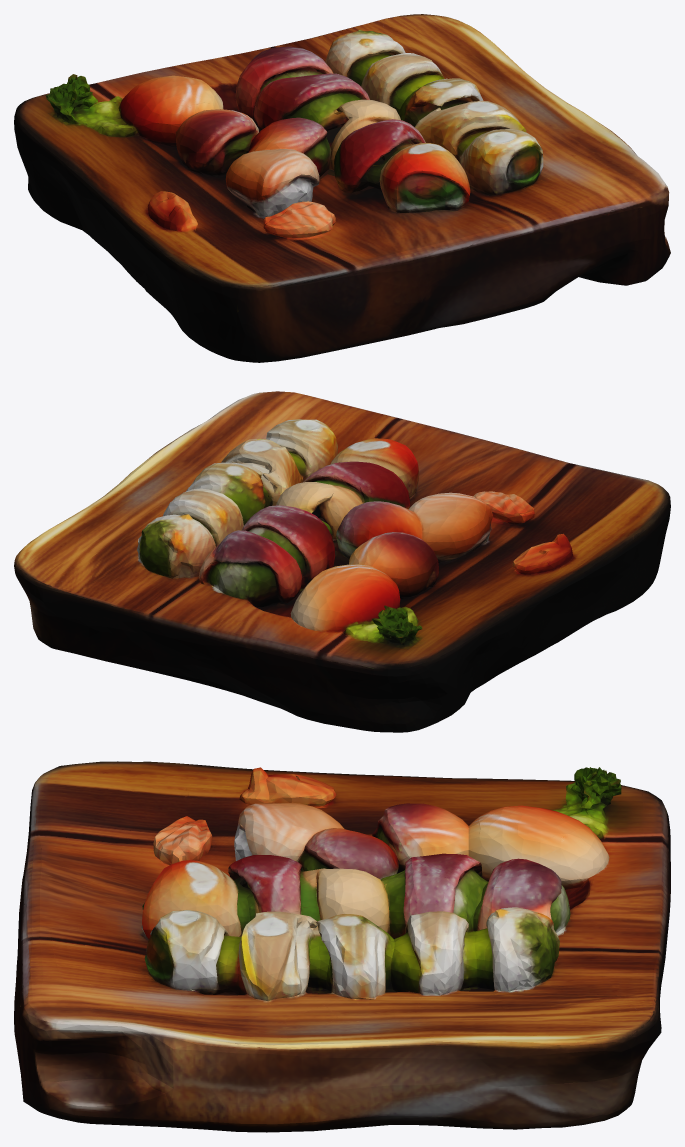
Rendered from wooden-sushi-board-3d.jpeg.glb.
3 renders of one model, top to bottom at view 1: azimuth 30°, elevation 25°; view 2: azimuth 150°, elevation 25°; view 3: azimuth 270°, elevation 25°, orthographic. The views are drawn at different scales.
Parts seen in each view (by area): view 1: world; view 2: world; view 3: world.
Boxes of the visible parts, left/top/right/bottom form: world: left=14, top=14, right=670, bottom=362; world: left=14, top=391, right=670, bottom=732; world: left=14, top=761, right=670, bottom=1132.
Bounding box in the file's own units: 0.9993 × 0.2446 × 0.9945.
1 material, 1 textured.
